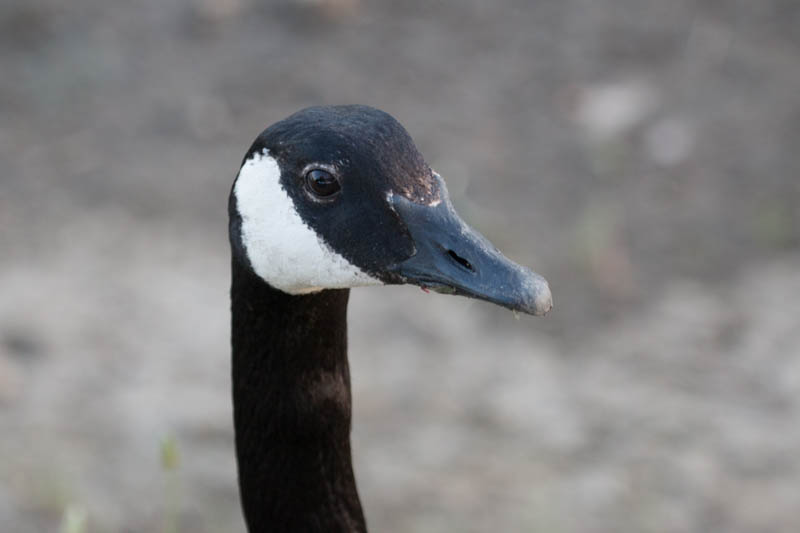goose-head: (229, 104, 555, 320)
